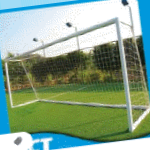goals: (3, 17, 150, 132)
